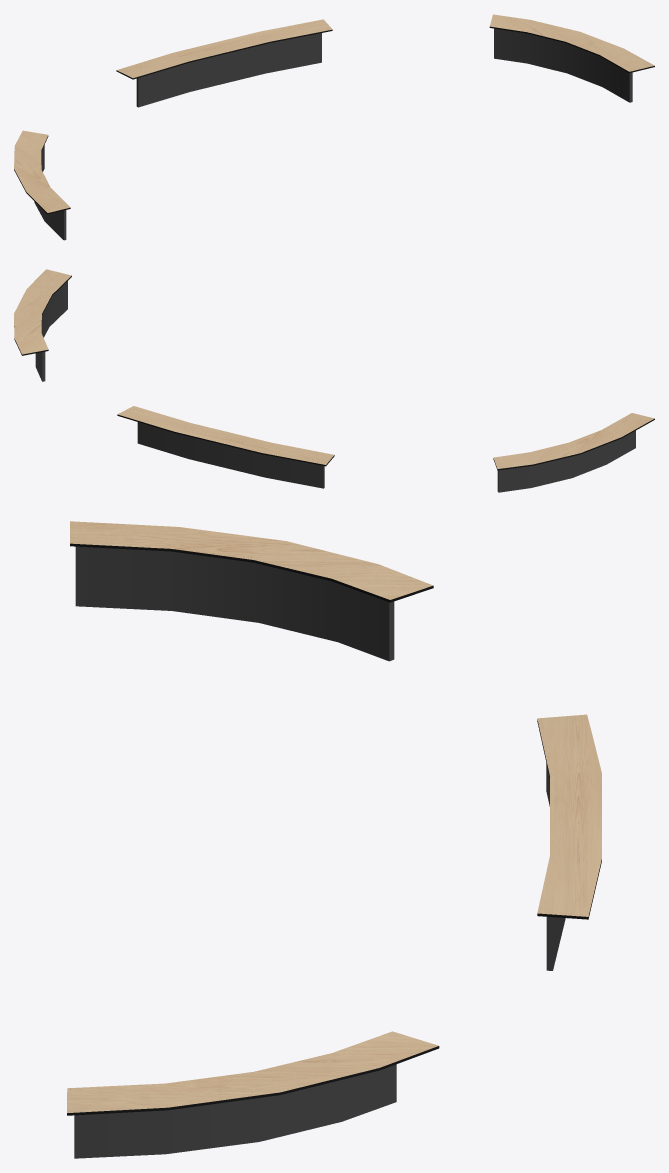
File: Tables 2.FBX
The picture shows the model from 3 angles, top to bottom: view 1: azimuth 30°, elevation 25°; view 2: azimuth 150°, elevation 25°; view 3: azimuth 270°, elevation 25°; orthographic projection. The views are drawn at different scales.
Visible parts, largest first — view 1: tables 2; view 2: tables 2; view 3: tables 2.
Part boxes in pixels (bbox=[...]): tables 2: bbox=[14, 14, 654, 240]; tables 2: bbox=[14, 269, 654, 492]; tables 2: bbox=[67, 521, 601, 1158].
Bounding box in the file's own units: 1315 × 67.78 × 503.
3 materials, 2 textured.
